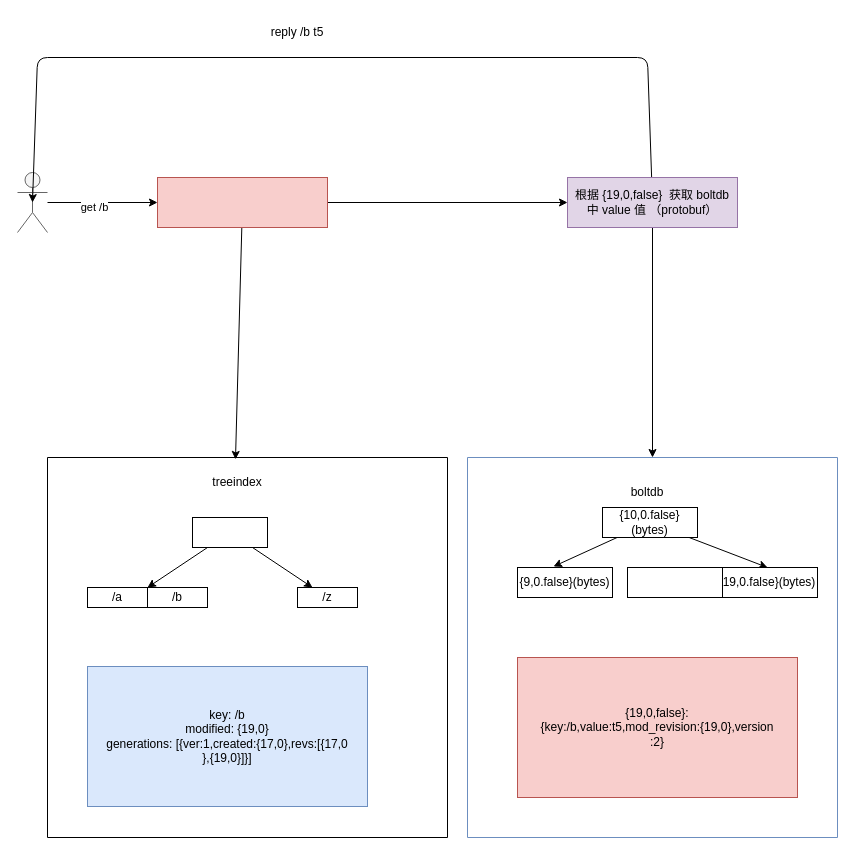
Some shapes in this 855 by 855 pixel diagram are drawn without their labels. The centre of each missing label's shape, as x and y in pixels:
/root: point (230, 532)
Actor: point (32, 202)
{13,0.true}(bytes): point (674, 582)
根据现在的 revsion=21 查找 最近的 revision 号码 {19，0}: point (242, 202)
